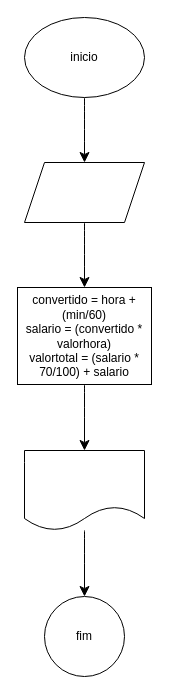
Image size: 169x694. Some labels were removed from this diagram. Here are the shapes that lost their labels. From the top down, the box of each, then its label:
(24, 162, 144, 222): horas minutos valorhora
(24, 450, 144, 530): valortotal
